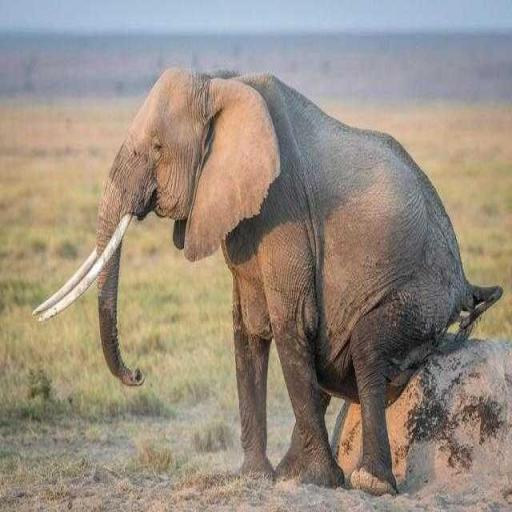Elephant: (31, 65, 503, 496)
